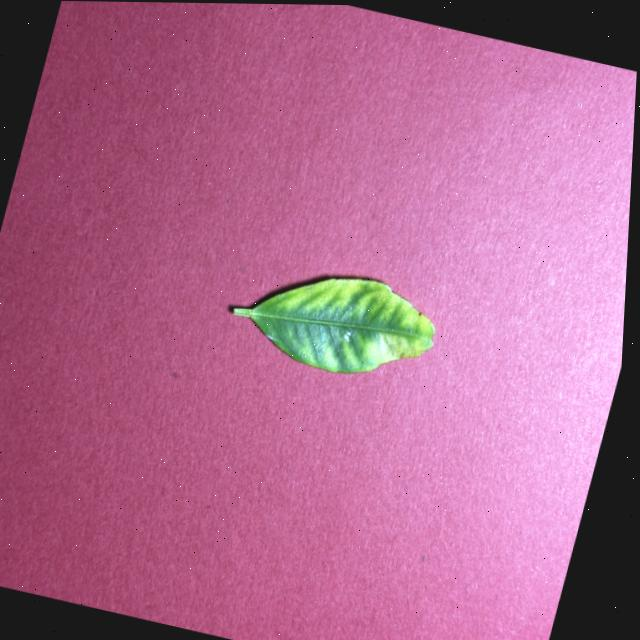greening: (232, 278, 434, 372)
